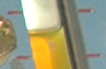border: (83, 53, 105, 60), (75, 7, 96, 14), (13, 54, 34, 61), (7, 9, 25, 15)
liquidlevel: (27, 24, 66, 38)
